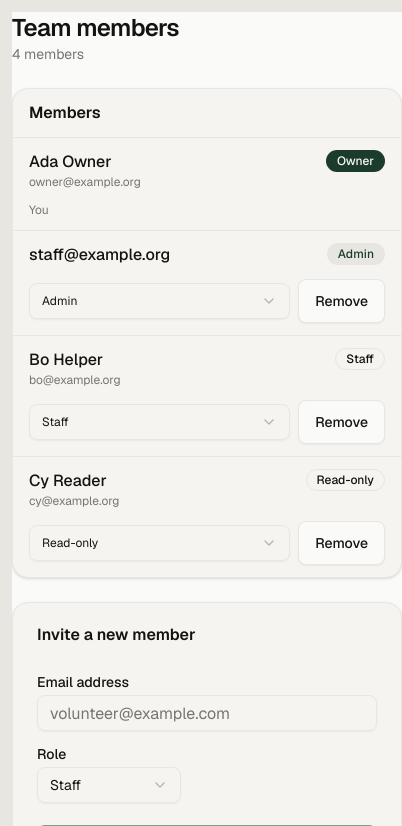
Test: TeamPage: ADMIN is offered only to an OWNER › offers ADMIN when the caller is the OWNER
Click the dropdown named "Role for Bo Helper" at (55, 422), box [29, 404, 290, 440]
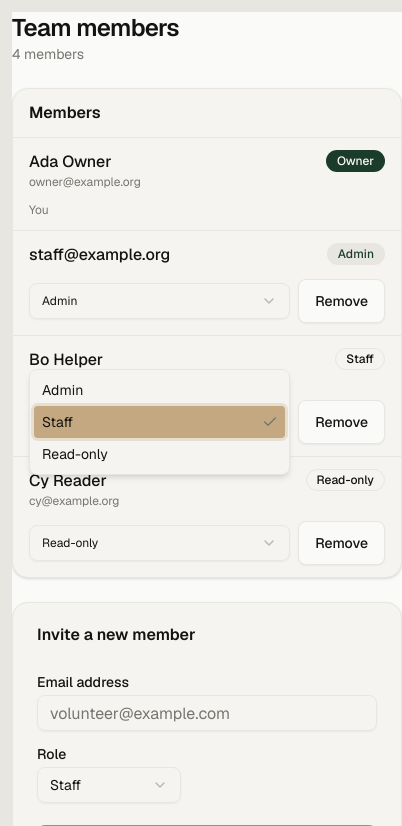
Expected: the option "Admin" is shown, [42, 381, 83, 399]
Expected: the option "Staff" is shown, [34, 406, 285, 438]
